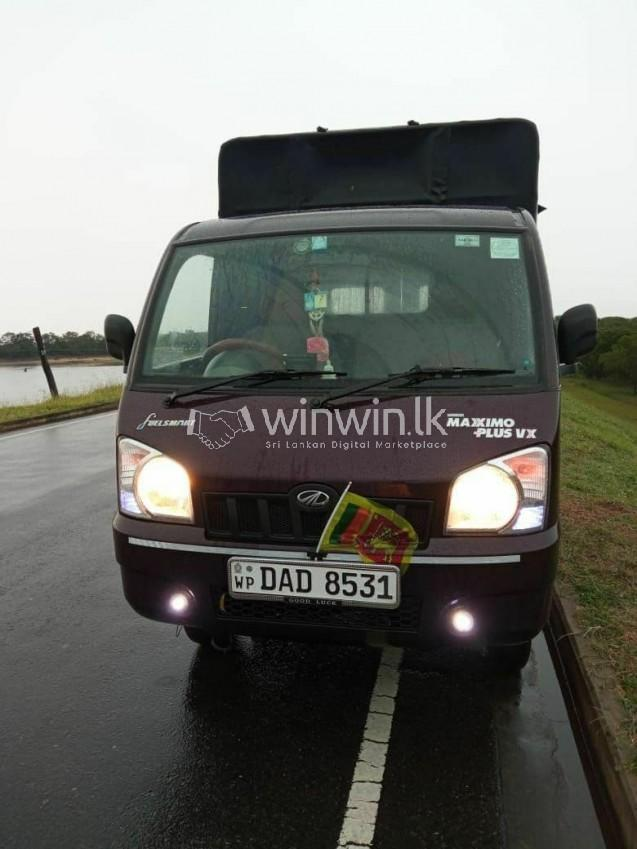truck: (101, 116, 598, 672)
